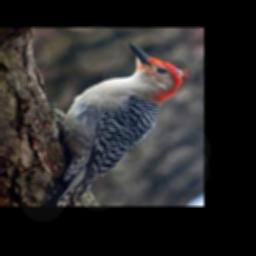Woodpecker: (43, 43, 190, 205)
